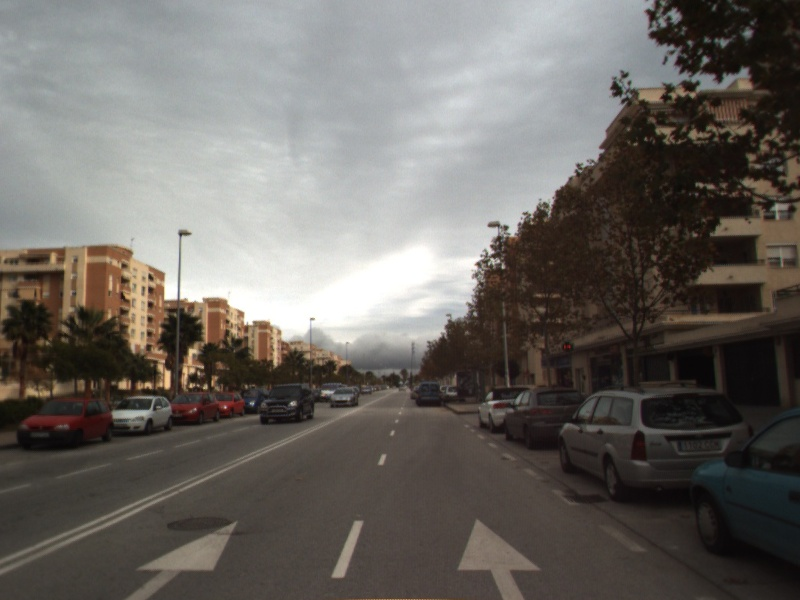STRAIGHT: (119, 518, 241, 600), (454, 516, 545, 600)
